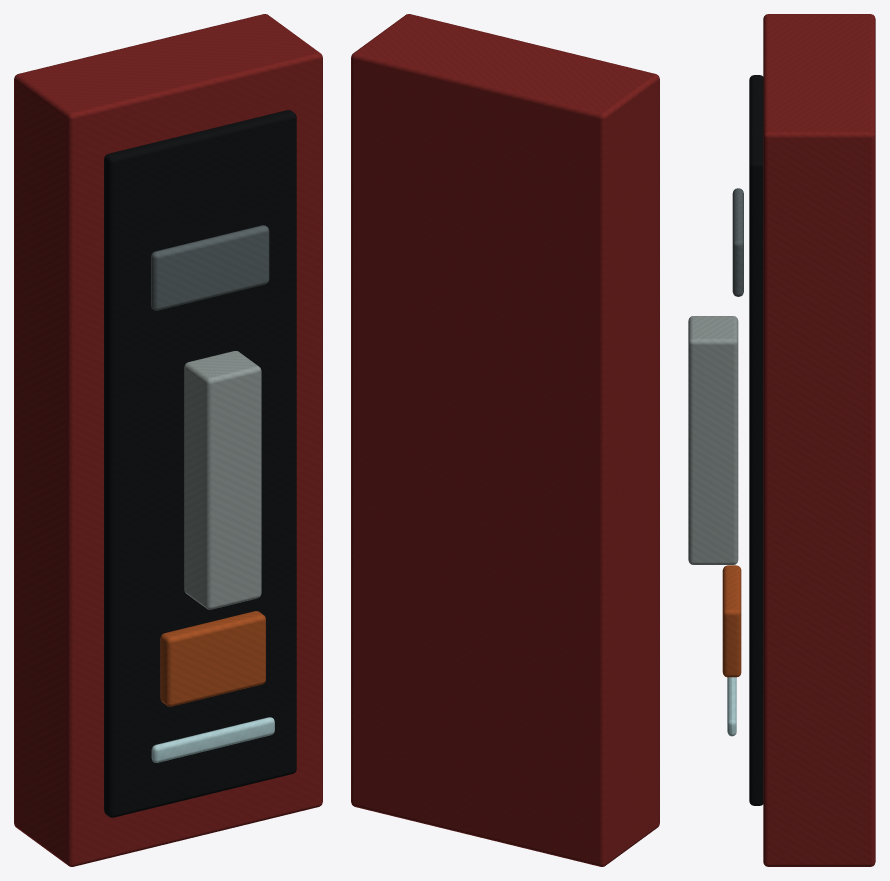
File: EmergencyPhone.fbx
3 renders of one model, left to right at view 1: azimuth 30°, elevation 25°; view 2: azimuth 150°, elevation 25°; view 3: azimuth 270°, elevation 25°, orthographic. The views are drawn at different scales.
Visible parts, largest first — view 1: EmergencyPhone_Mesh; view 2: EmergencyPhone_Mesh; view 3: EmergencyPhone_Mesh.
Part boxes in pixels (x1=…): EmergencyPhone_Mesh: x1=14, y1=14, x2=322, y2=866; EmergencyPhone_Mesh: x1=351, y1=14, x2=659, y2=866; EmergencyPhone_Mesh: x1=688, y1=14, x2=875, y2=866.
Bounding box in the file's own units: 46 × 130 × 30.
